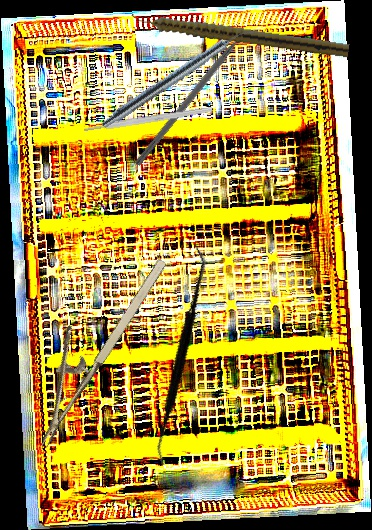Chopper: (134, 20, 262, 173)
Handpiece: (98, 20, 257, 134), (129, 8, 351, 59)
Needle Holder: (3, 238, 173, 449)
Scalpel Handle: (83, 105, 213, 134)
Spatula Surgical: (91, 243, 267, 468)
